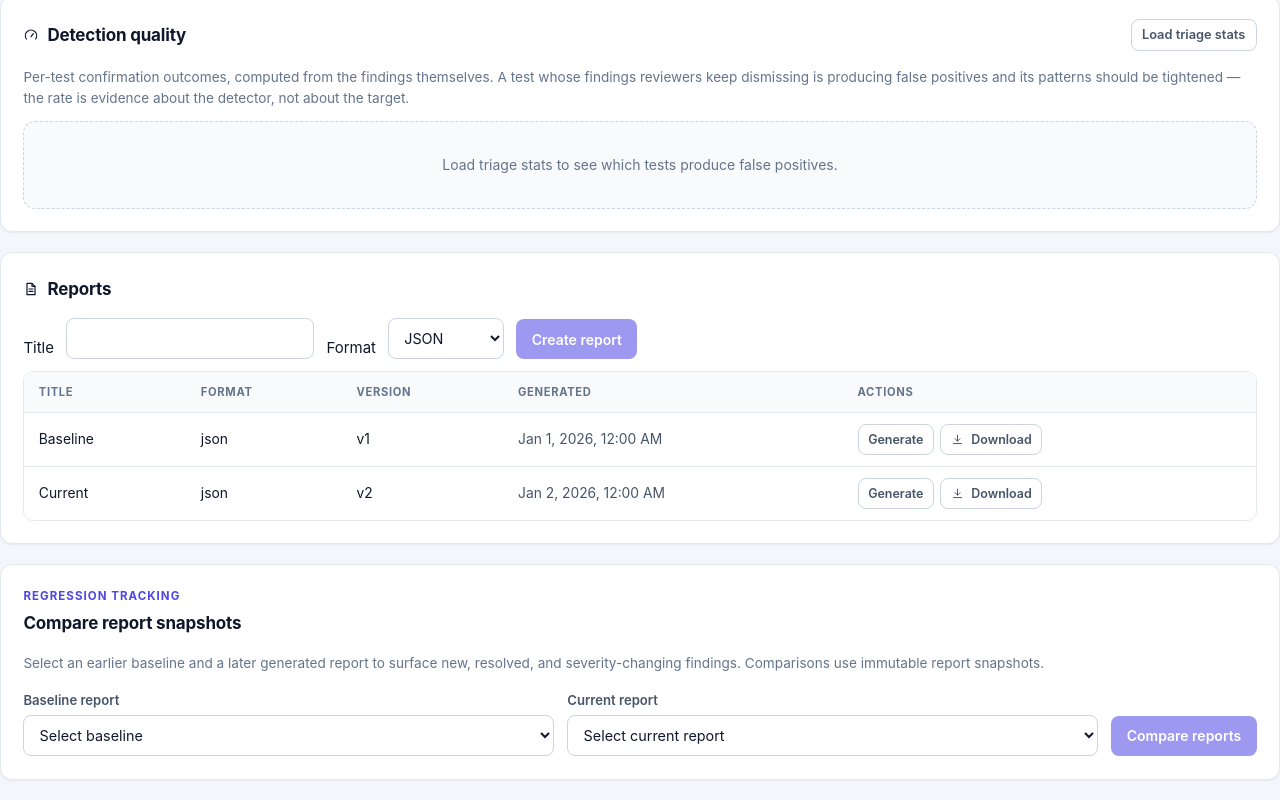
Test: Report comparison › compares two generated report snapshots and surfaces regressions
(page scrolled)
Select "Baseline · v1" in the dropdown labelled "Baseline report" at (289, 736), box [23, 715, 554, 756]
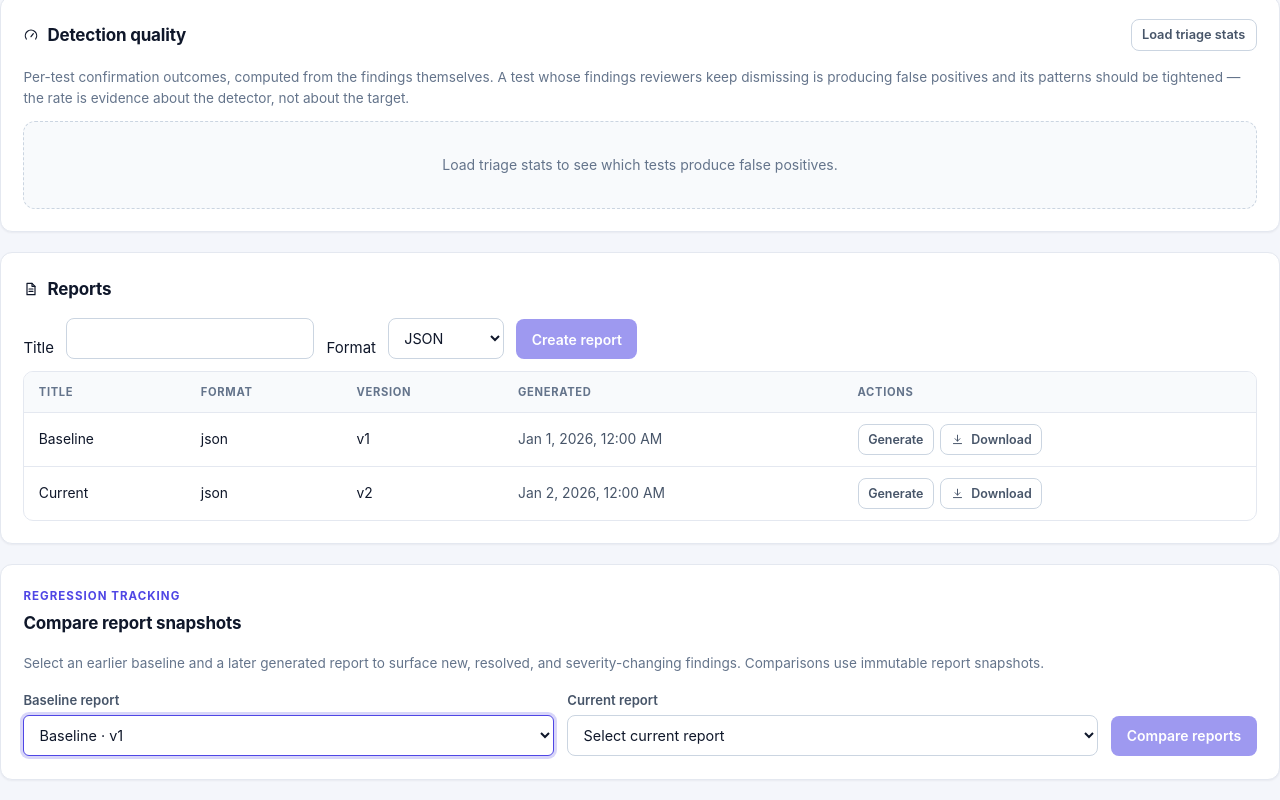
Select "Current · v2" in the dropdown labelled "Current report" at (832, 736), box [567, 715, 1098, 756]
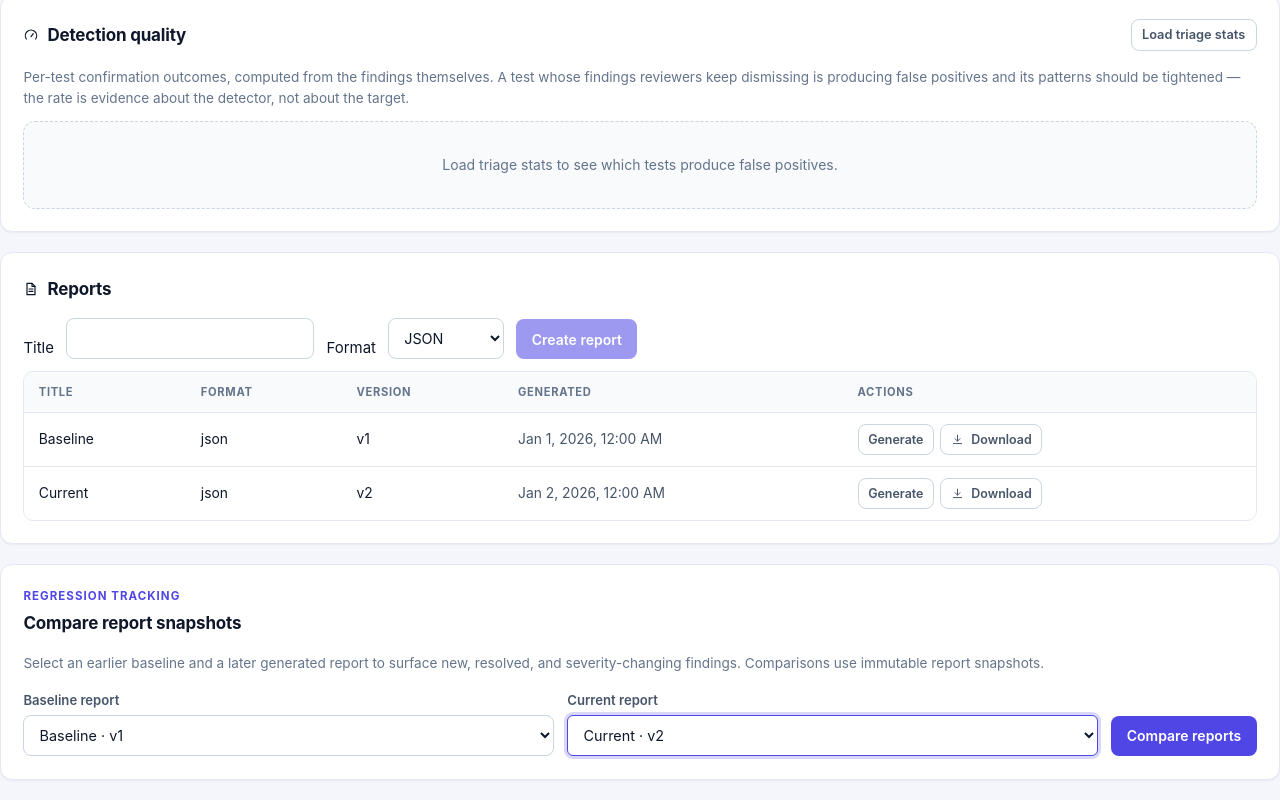
Click the button "Compare reports".
click(1184, 736)  # box [1111, 716, 1257, 756]
(page scrolled)
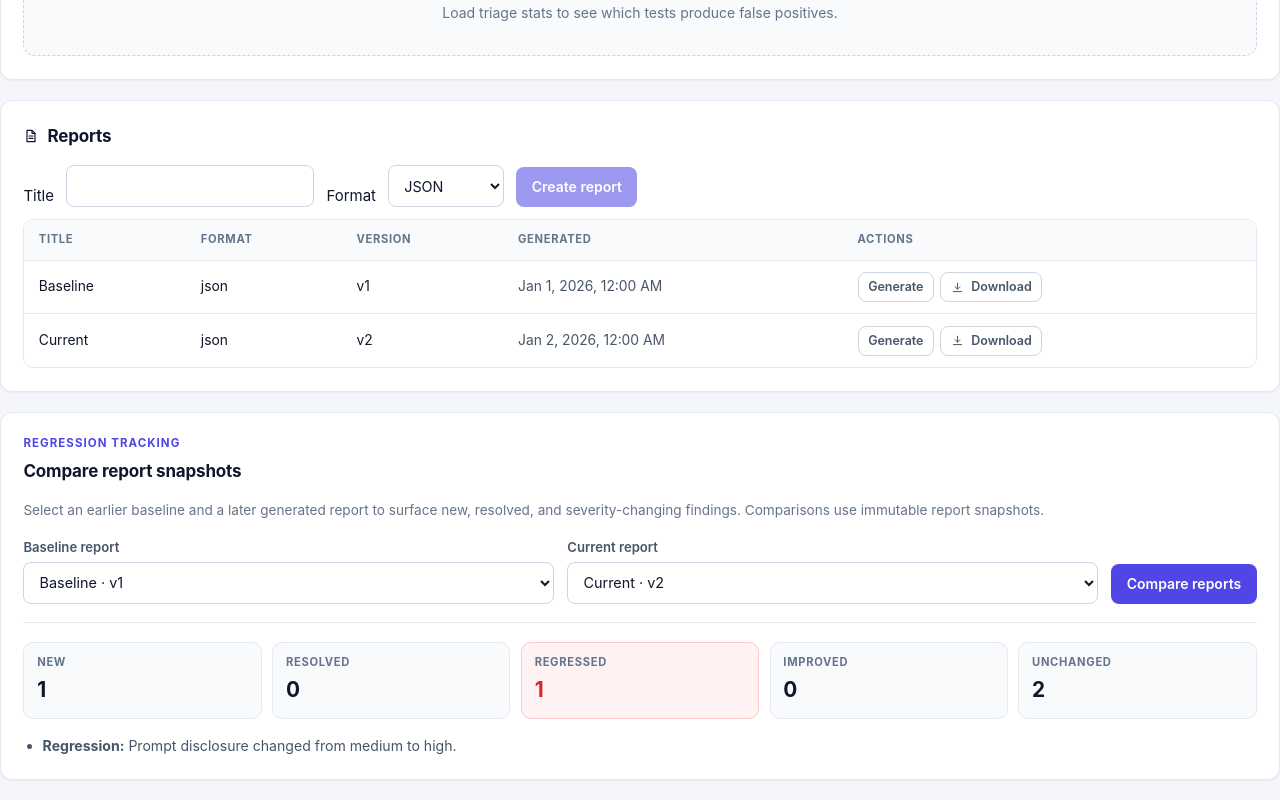
Expected: the list item shows "Prompt disclosure changed from medium to high.", [43, 737, 457, 754]
Expected: the text "Regressed" is shown, [535, 655, 607, 669]
